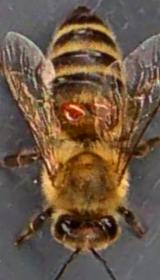varroa_mite: (55, 95, 89, 125)
